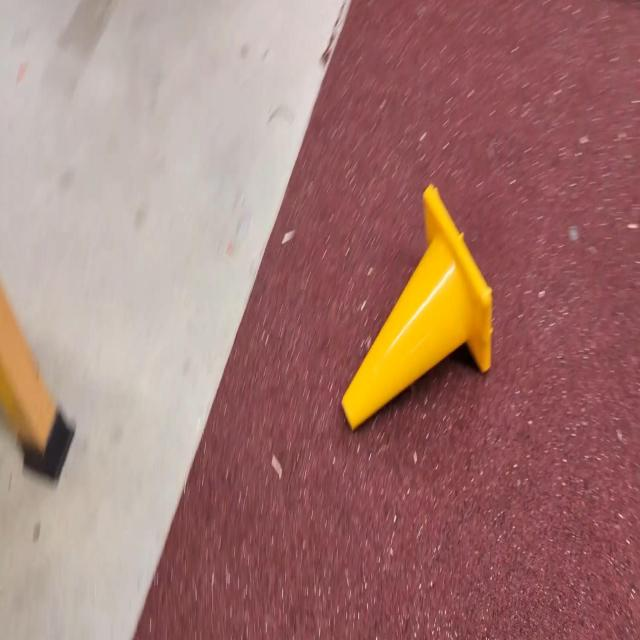frc_cone: (340, 184, 493, 434)
